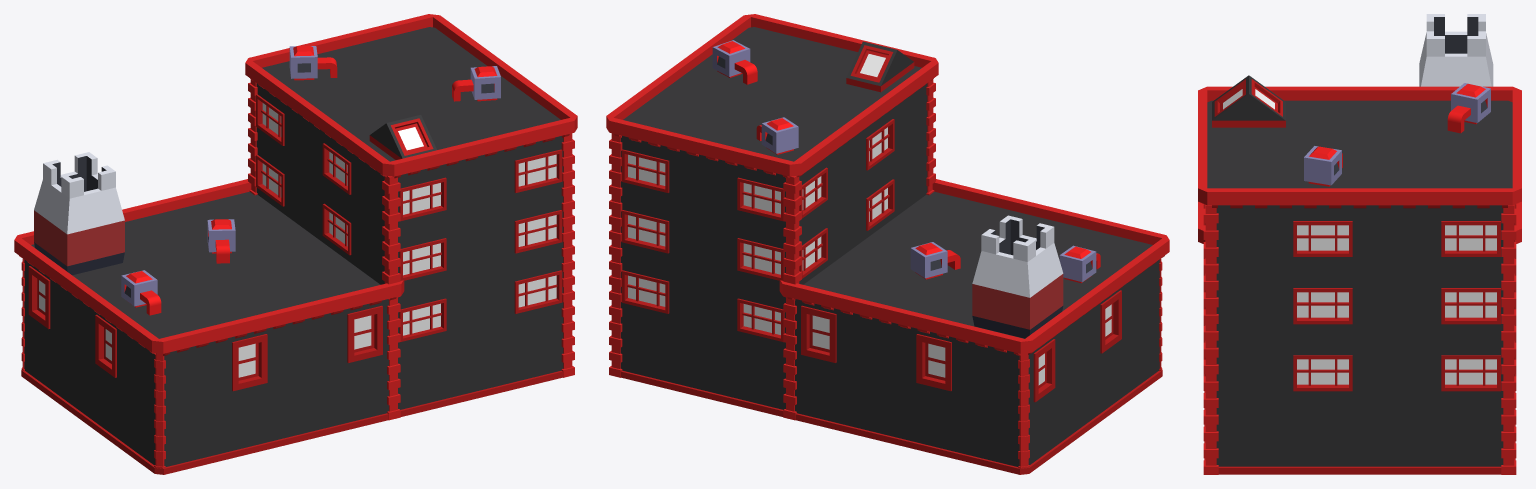
Rendered from factory.fbx.
3 renders of one model, left to right at view 1: azimuth 30°, elevation 25°; view 2: azimuth 150°, elevation 25°; view 3: azimuth 270°, elevation 25°, orthographic. The views are drawn at different scales.
Parts seen in each view (by area): view 1: mergedBlocks; view 2: mergedBlocks; view 3: mergedBlocks.
Part boxes in pixels (x1,y1,x2,y2): mergedBlocks: [14, 14, 577, 474]; mergedBlocks: [606, 14, 1169, 474]; mergedBlocks: [1198, 14, 1521, 474].
Bounding box in the file's own units: 73.75 × 46 × 43.75.
